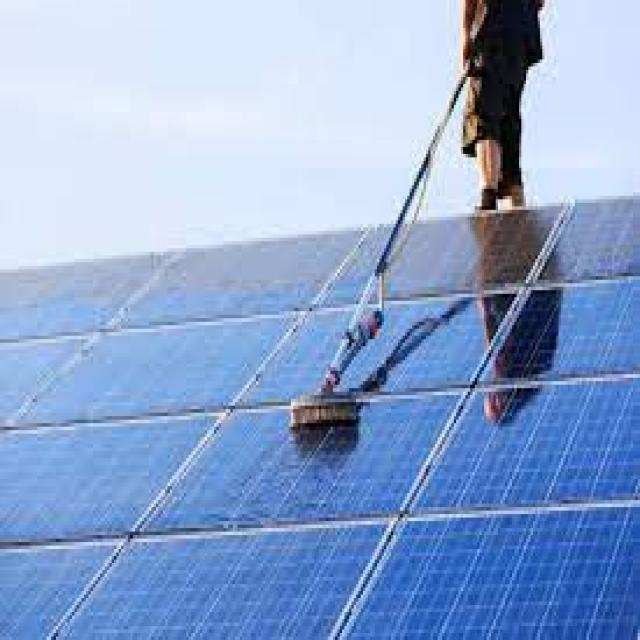clean-solar-panel: (0, 290, 640, 637)
dust-solar-panel: (0, 234, 360, 341)
